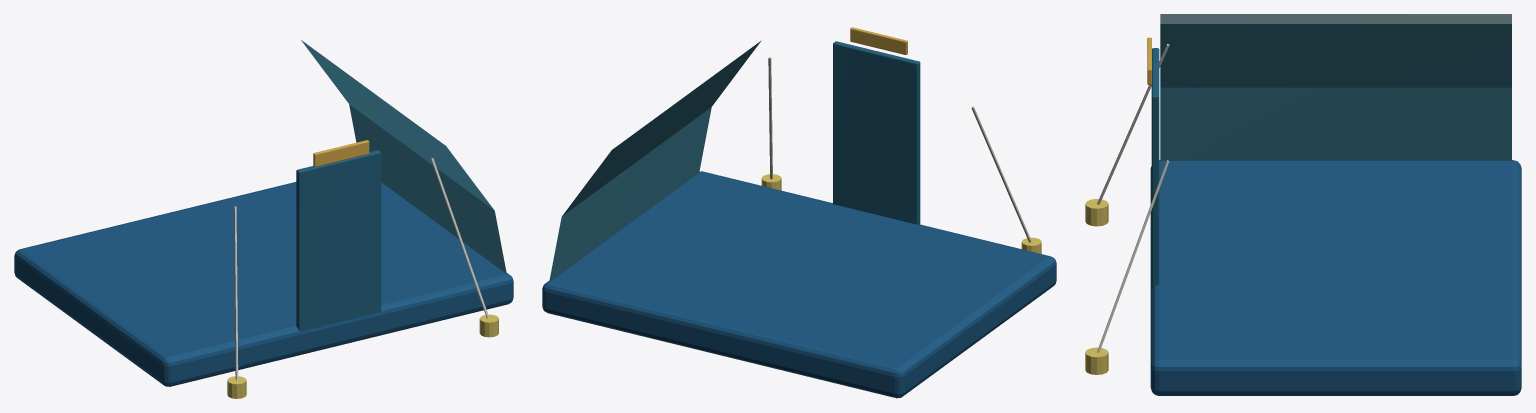
File: glacier_field_tent_v1.glb
3 views of the same model, side by side, from view 1: azimuth 30°, elevation 25°; view 2: azimuth 150°, elevation 25°; view 3: azimuth 270°, elevation 25° (orthographic). The views are drawn at different scales.
Parts seen in each view (by area): view 1: glacier_field_tent_v1; view 2: glacier_field_tent_v1; view 3: glacier_field_tent_v1.
Boxes of the visible parts, x1,y1,x2,y2 form: glacier_field_tent_v1: [14, 40, 513, 398]; glacier_field_tent_v1: [542, 27, 1056, 398]; glacier_field_tent_v1: [1085, 14, 1521, 395].
Size of the model in its own units: 5 by 2.92 by 4.47.
